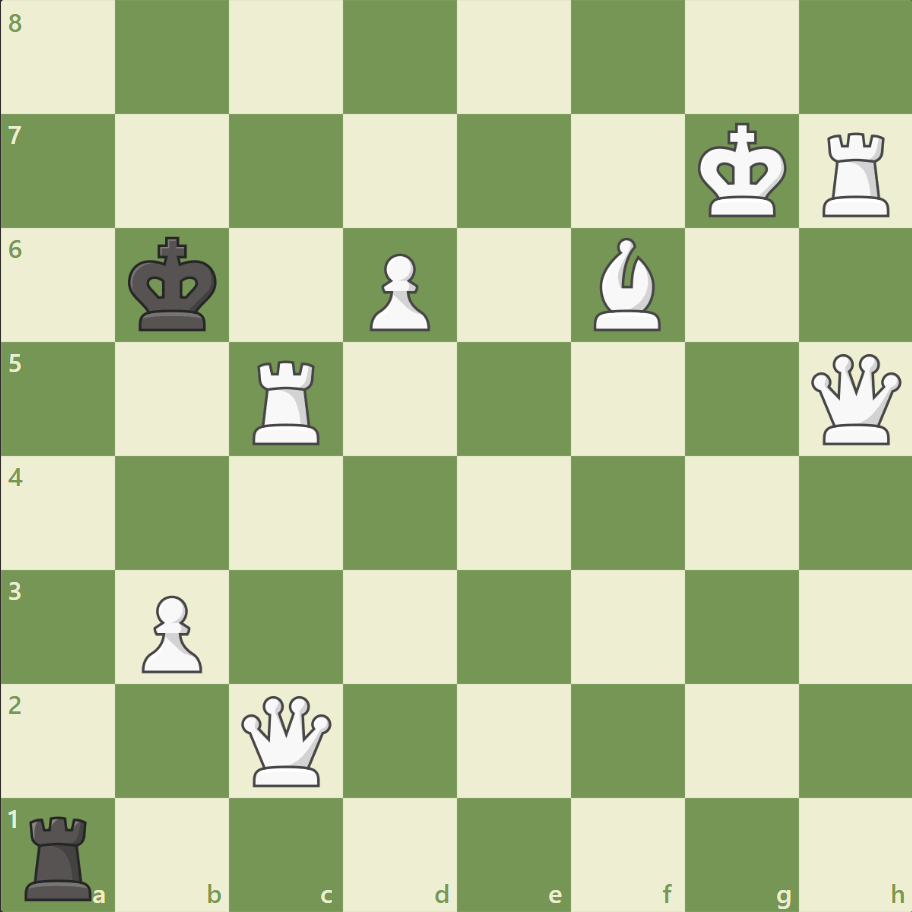B: (585, 233, 669, 336)
K: (692, 117, 792, 225)
P: (133, 586, 208, 677), (361, 246, 435, 337)
Q: (805, 349, 904, 449), (237, 690, 336, 789)
R: (814, 125, 897, 222), (246, 352, 329, 449)
k: (124, 231, 224, 339)
r: (19, 806, 102, 904)
